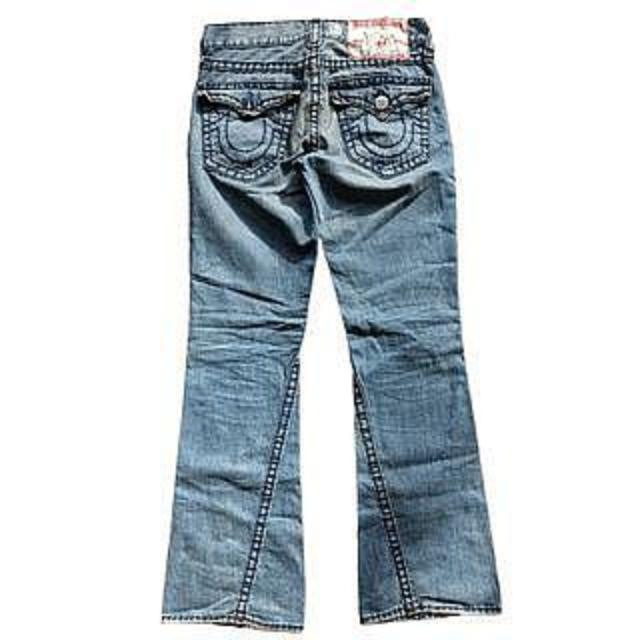TROUSER: (140, 10, 526, 640)
